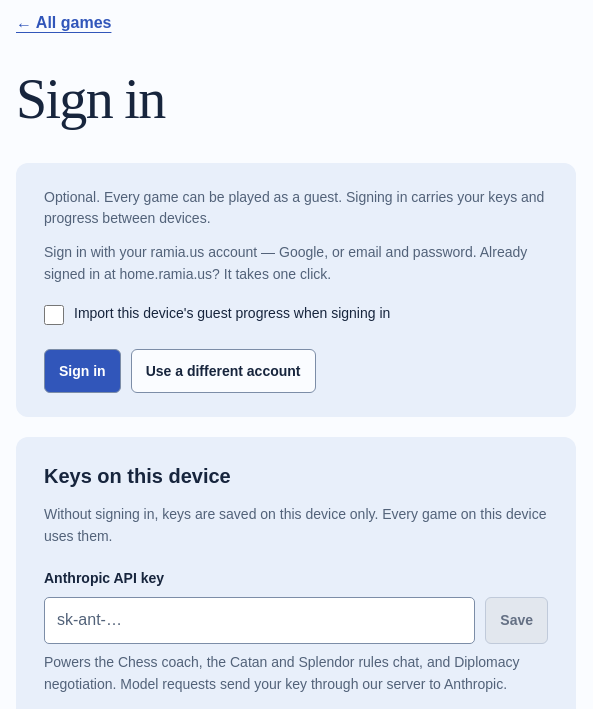
Test: guest keys are device-only
Expected: the heading "Keys on this device" is shown, x1=44 y1=465 x2=231 y2=487
Type "sk-ant-synthetic-guest-key-0000000000000000" into the password field labelled "Anthropic API key" at (260, 621), box x1=44 y1=597 x2=475 y2=644
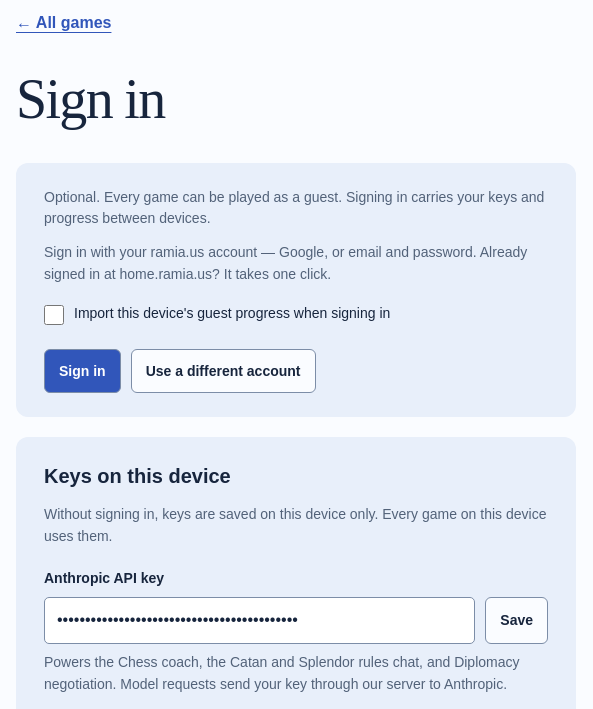
Click the button "Save" at (517, 621), box x1=485 y1=597 x2=548 y2=644
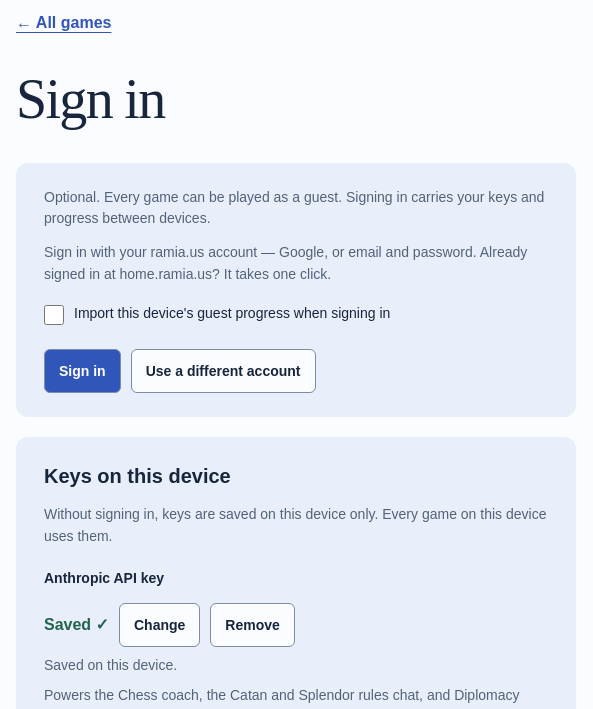
Expected: the text "Saved on this device." is shown, x1=44 y1=657 x2=177 y2=673
